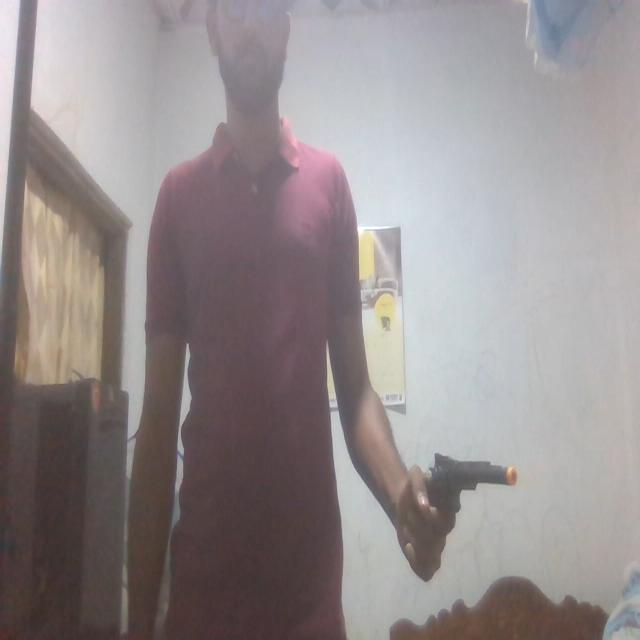Gun_Holder: (408, 441, 526, 572)
Person: (132, 0, 442, 640)
